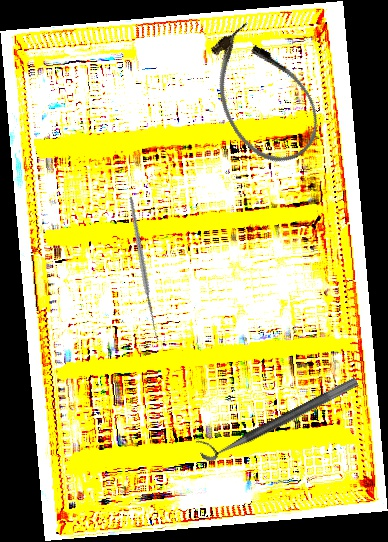Cannula: (190, 13, 334, 178)
Fixation Ring: (194, 364, 360, 465)
Hook Surgical: (86, 196, 208, 343)
